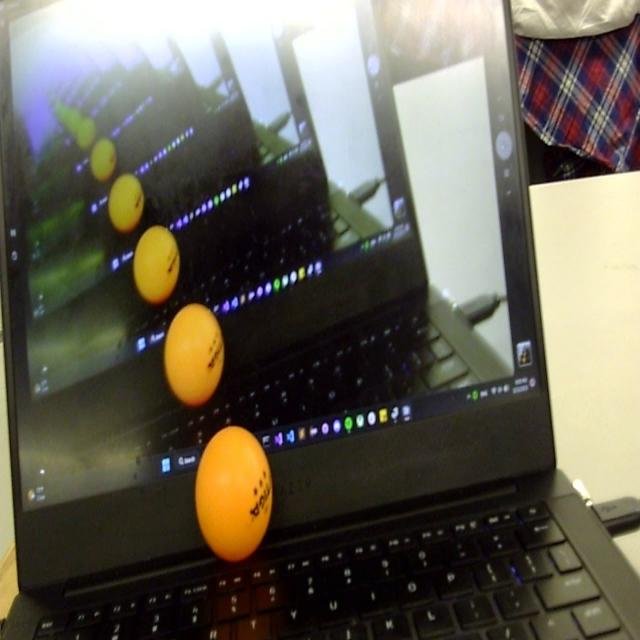ball: (193, 423, 274, 570), (164, 302, 227, 411), (134, 223, 182, 304), (108, 172, 147, 234), (89, 136, 118, 185), (75, 113, 96, 156)
